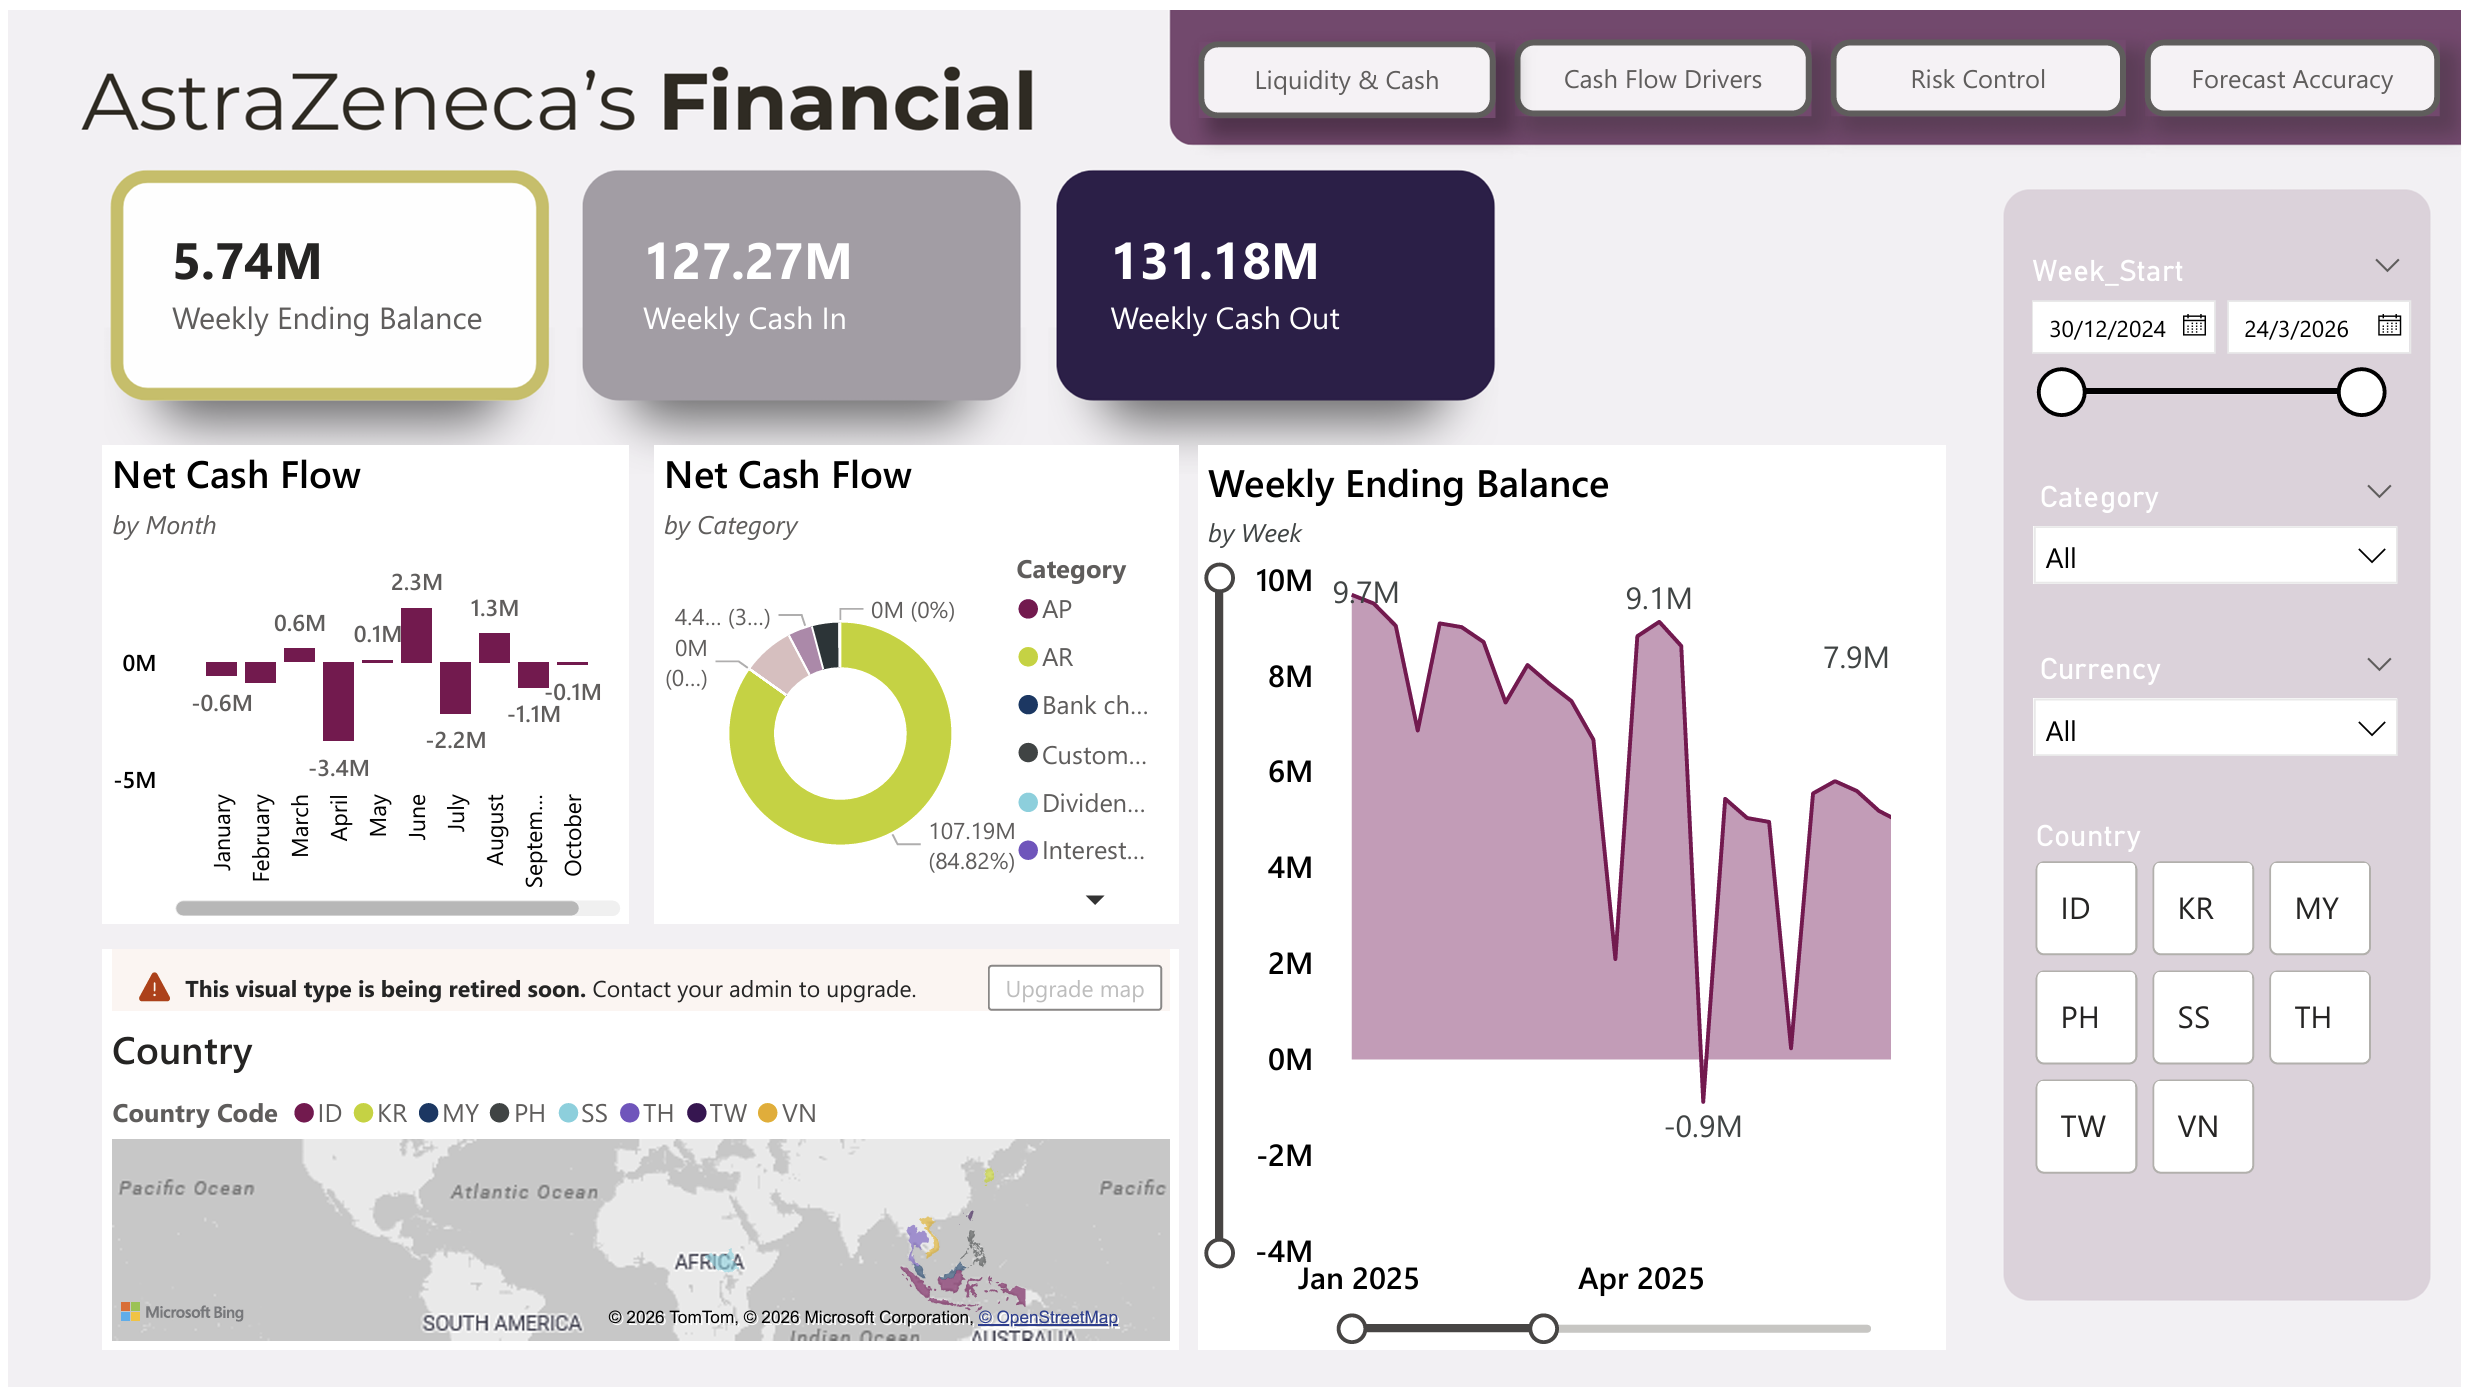

Layout of this report page (visuals, bound fields, positions):
{"tool":"powerbi","page":{"name":"1 -  Cash Visibility & Liquidity Risk","canvas":[1280,720],"ordinal":0},"visuals":[{"type":"actionButton","title":"Liquidity & Cash","box":[786.4,15,154.3,40],"z":0},{"type":"actionButton","title":"Liquidity & Cash","box":[950.7,15,154.3,40],"z":1000},{"type":"actionButton","title":"Liquidity & Cash","box":[1115,15,154.3,40],"z":2000},{"type":"cardVisual","fields":{"Data":["MyMeasures.Weekly Ending Balance"]},"box":[62.9,85.7,212.9,110],"z":3000},{"type":"cardVisual","fields":{"Data":["MyMeasures.Weekly Cash In"]},"box":[308.6,85.7,212.9,110],"z":4000},{"type":"cardVisual","fields":{"Data":["MyMeasures.Weekly Cash Out"]},"box":[552.9,85.7,212.9,110],"z":5000},{"type":"filledMap","title":"Country","fields":{"Category":["Dim - Branch.Country"],"Series":["Dim - Branch.Country Code"]},"box":[48.6,490,562.9,208.6],"z":6000},{"type":"lineChart","title":"Weekly Ending Balance","fields":{"Category":["Dim - DateTable.Week_Start"],"Y":["MyMeasures.Weekly Ending Balance"]},"box":[621.4,227.1,390,471.4],"z":7000},{"type":"clusteredColumnChart","title":"Net Cash Flow","fields":{"Y":["Fact - Transactions.Net Cash Flow"],"Category":["Dim - DateTable.Week_Start.Variation.Date Hierarchy.Month"]},"box":[48.6,227.1,275.7,250],"z":8000},{"type":"donutChart","title":"Net Cash Flow","fields":{"Category":["Dim - Category.Category"],"Y":["CountNonNull(Dim - Category.Category)","Fact - Transactions.Net Cash Flow"]},"box":[337.1,227.1,274.3,250],"z":9000},{"type":"slicer","title":"Date","fields":{"Values":["Dim - DateTable.Week_Start"]},"box":[1047.1,120,210,150],"z":10000},{"type":"slicer","fields":{"Values":["Dim - Category.Category"]},"box":[1047.1,238.6,210,64.3],"z":11000},{"type":"slicer","fields":{"Values":["Dim - Branch.Currency"]},"box":[1047.1,328.6,210,64.3],"z":12000},{"type":"advancedSlicerVisual","title":"Country ","fields":{"Values":["Dim - Branch.Country Code"]},"box":[1052.9,421.4,185.7,192.9],"z":13000},{"type":"actionButton","title":"Liquidity & Cash","box":[621.4,15.7,154.3,40],"z":14000}]}

Visuals, with their boxes in screenshot pixels (x1, y1, x2, y2), scaled from the page's 1280x720 canvas onto the 2471x1398 screenshot:
"Liquidity & Cash" actionButton: pyautogui.locateOnScreen(1518, 29, 1816, 107)
"Liquidity & Cash" actionButton: pyautogui.locateOnScreen(1835, 29, 2133, 107)
"Liquidity & Cash" actionButton: pyautogui.locateOnScreen(2152, 29, 2450, 107)
cardVisual - MyMeasures.Weekly Ending Balance: pyautogui.locateOnScreen(121, 166, 532, 380)
cardVisual - MyMeasures.Weekly Cash In: pyautogui.locateOnScreen(596, 166, 1007, 380)
cardVisual - MyMeasures.Weekly Cash Out: pyautogui.locateOnScreen(1067, 166, 1478, 380)
"Country" filledMap: pyautogui.locateOnScreen(94, 951, 1180, 1356)
"Weekly Ending Balance" lineChart: pyautogui.locateOnScreen(1200, 441, 1952, 1356)
"Net Cash Flow" clusteredColumnChart: pyautogui.locateOnScreen(94, 441, 626, 926)
"Net Cash Flow" donutChart: pyautogui.locateOnScreen(651, 441, 1180, 926)
"Date" slicer: pyautogui.locateOnScreen(2021, 233, 2427, 524)
slicer - Dim - Category.Category: pyautogui.locateOnScreen(2021, 463, 2427, 588)
slicer - Dim - Branch.Currency: pyautogui.locateOnScreen(2021, 638, 2427, 763)
"Country " advancedSlicerVisual: pyautogui.locateOnScreen(2033, 818, 2391, 1193)
"Liquidity & Cash" actionButton: pyautogui.locateOnScreen(1200, 30, 1497, 108)
